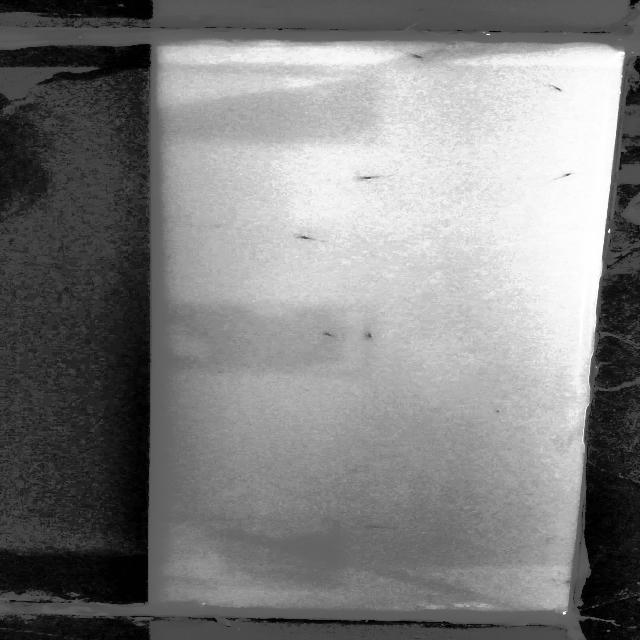shrimp: (358, 522, 408, 532), (541, 171, 579, 183), (356, 171, 396, 181), (360, 328, 384, 342), (293, 232, 325, 242), (317, 331, 343, 341), (546, 85, 569, 96), (410, 52, 426, 61)
